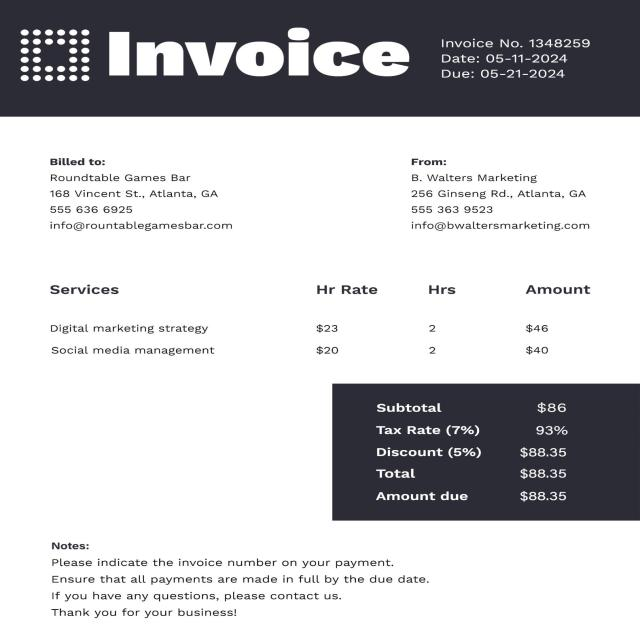paragraph: (41, 530, 442, 628), (365, 394, 589, 512), (39, 140, 255, 244), (103, 19, 415, 89), (397, 149, 608, 245), (429, 18, 602, 86)
table: (23, 267, 611, 368)
